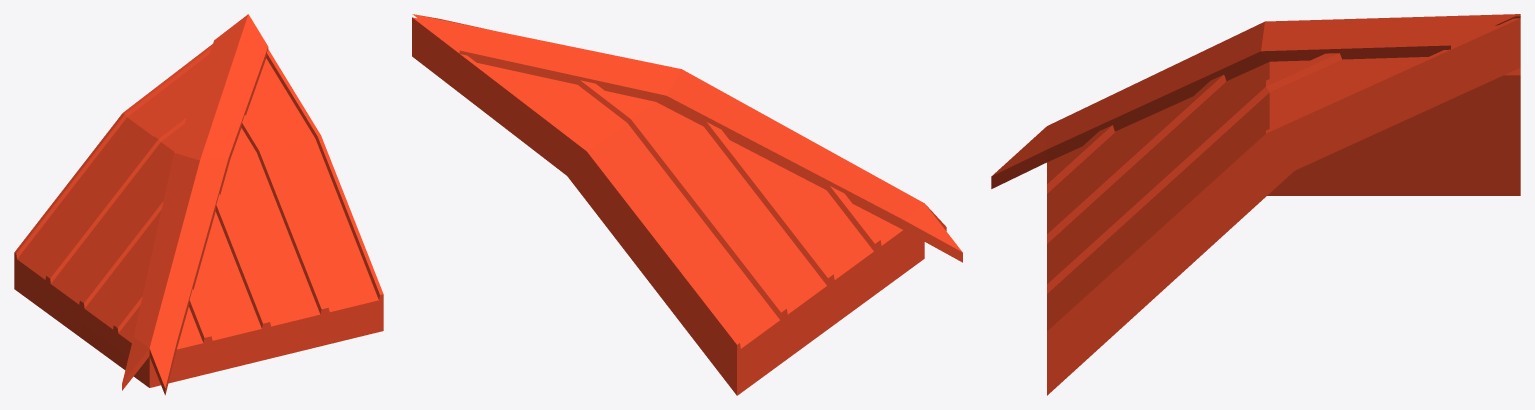
The model's file is roof-metal-regular-moderate-2x2m-corner-a.fbx.
The picture shows the model from 3 angles, left to right: view 1: azimuth 30°, elevation 25°; view 2: azimuth 150°, elevation 25°; view 3: azimuth 270°, elevation 25°; orthographic projection. The views are drawn at different scales.
Parts seen in each view (by area): view 1: roof-metal-regular-moderate-2x2m-corner-a; view 2: roof-metal-regular-moderate-2x2m-corner-a; view 3: roof-metal-regular-moderate-2x2m-corner-a.
Part boxes in pixels (bbox=[...]): roof-metal-regular-moderate-2x2m-corner-a: bbox=[14, 14, 383, 395]; roof-metal-regular-moderate-2x2m-corner-a: bbox=[412, 14, 962, 395]; roof-metal-regular-moderate-2x2m-corner-a: bbox=[991, 14, 1520, 395].
Size of the model in its own units: 2.23 by 1.78 by 2.23.
